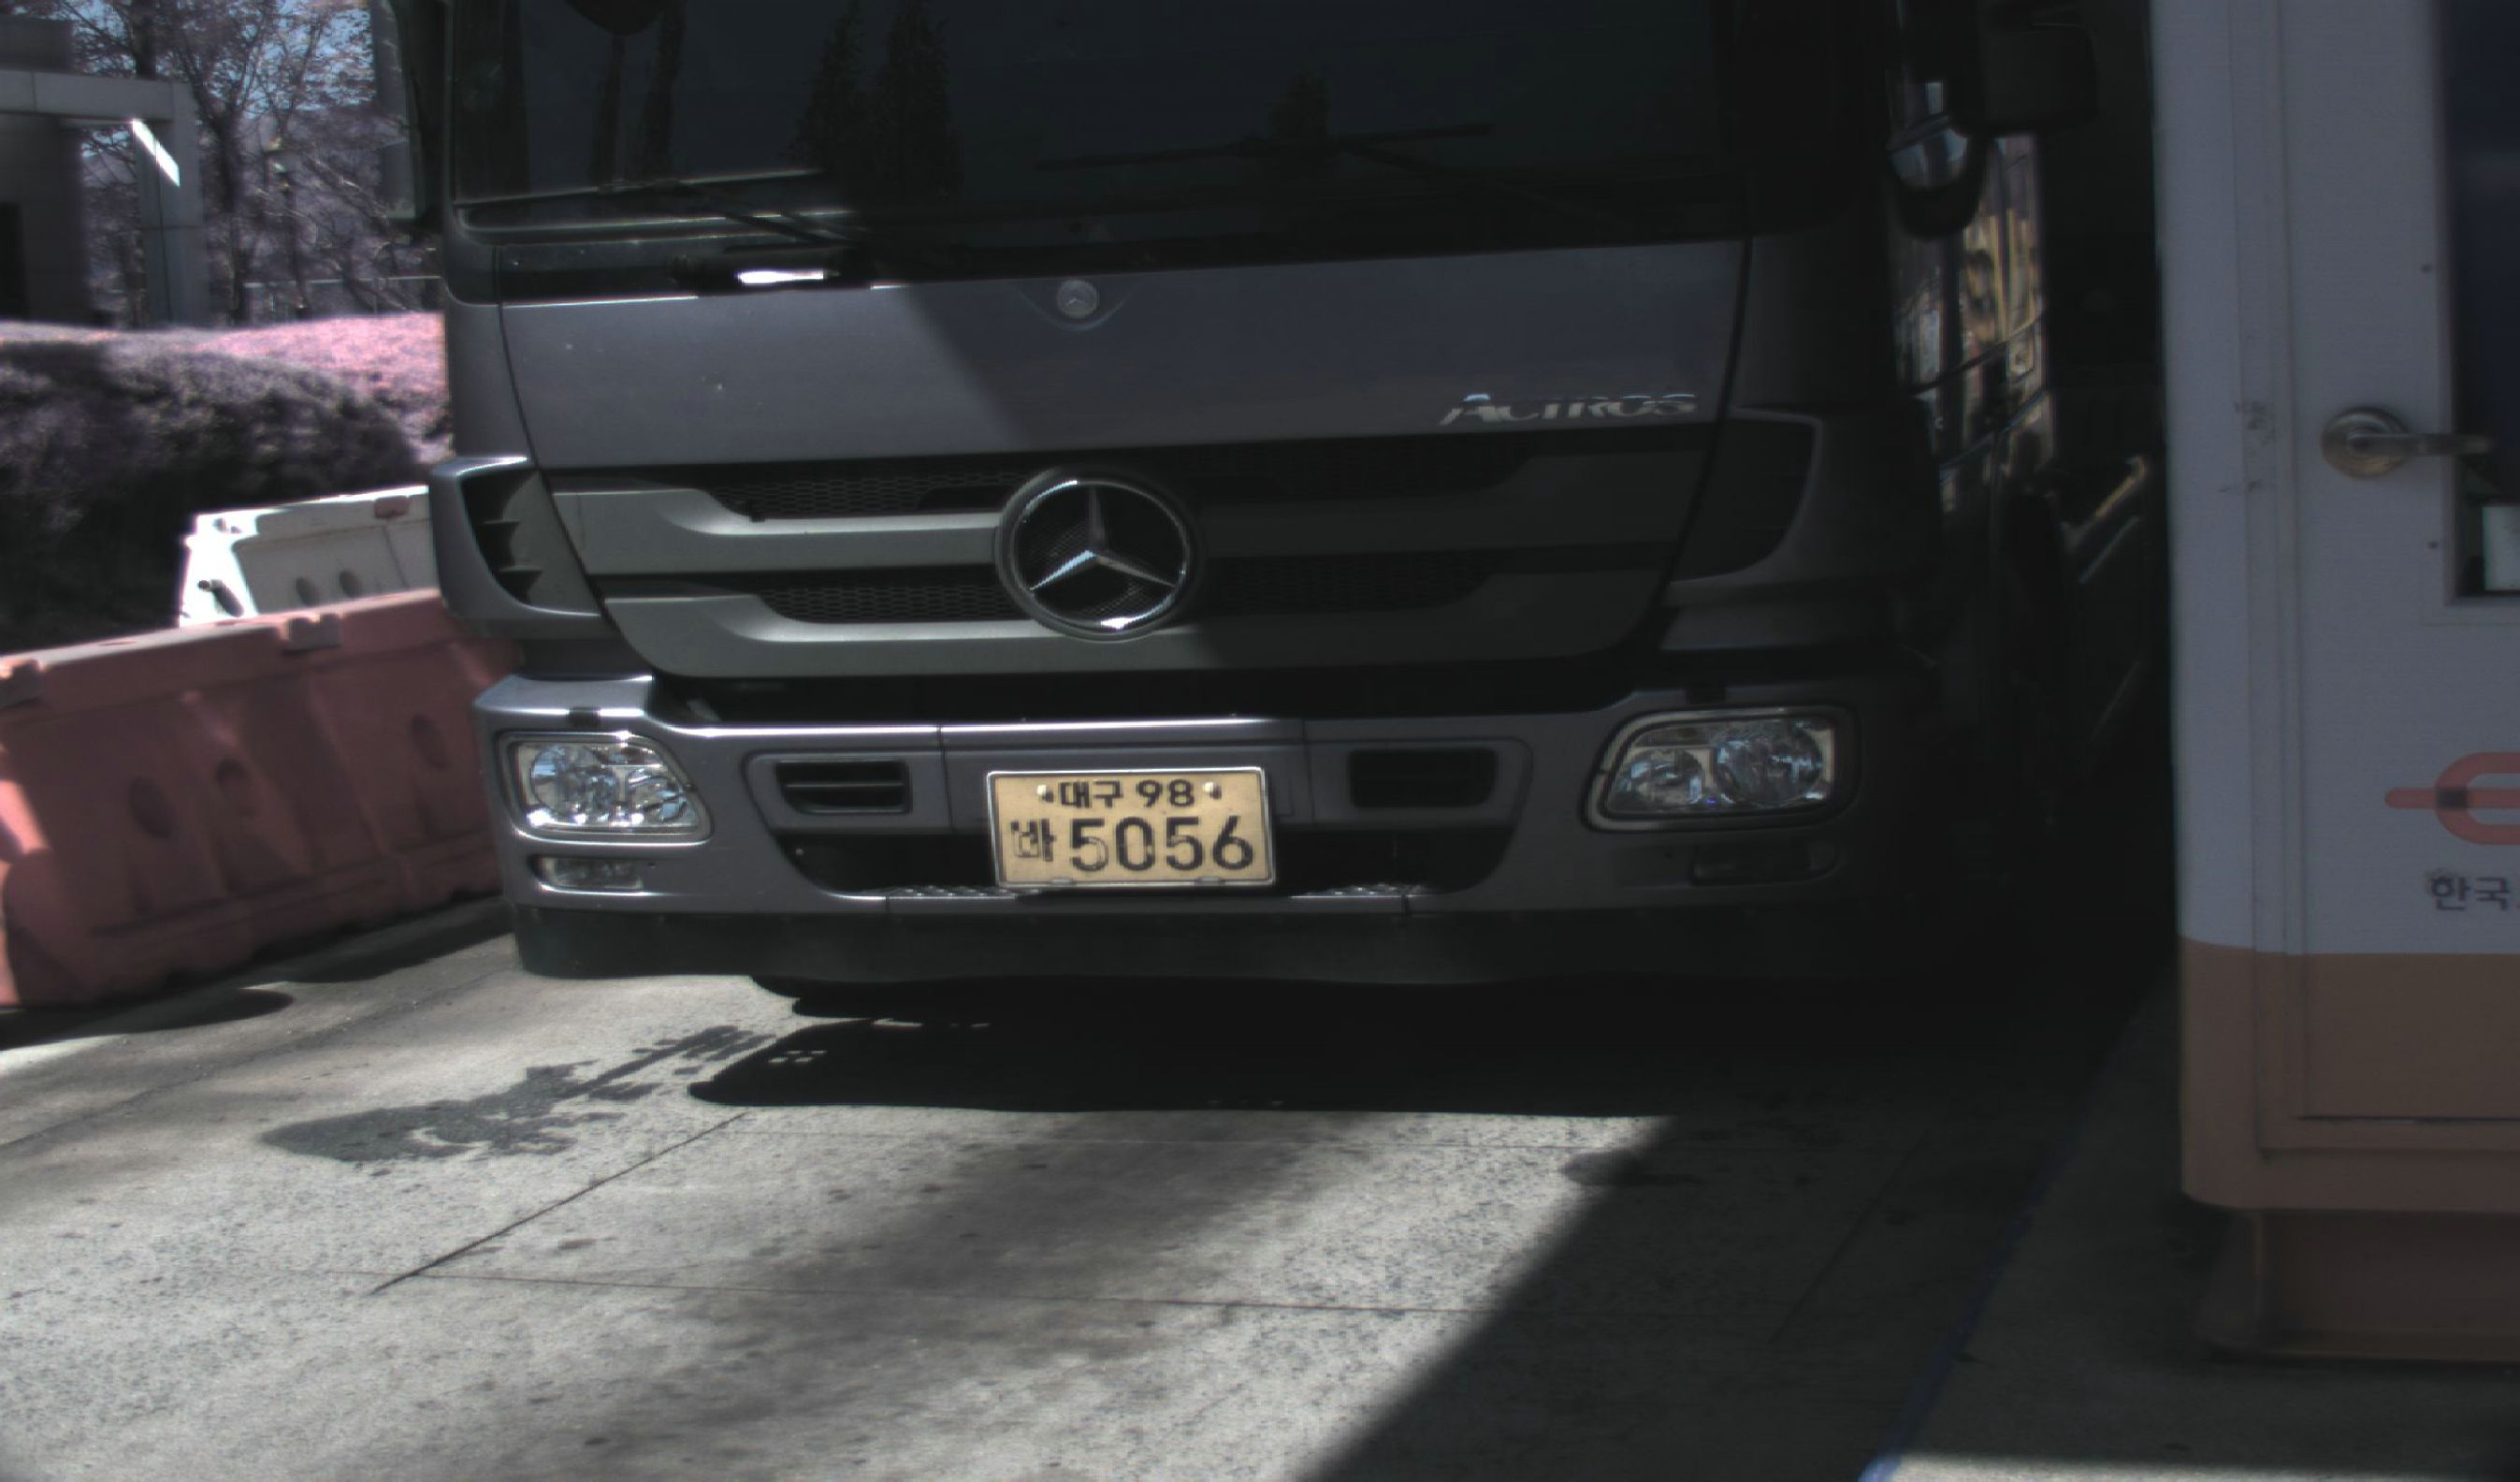car: (366, 1, 2172, 1034)
plate: (978, 766, 1280, 894)
